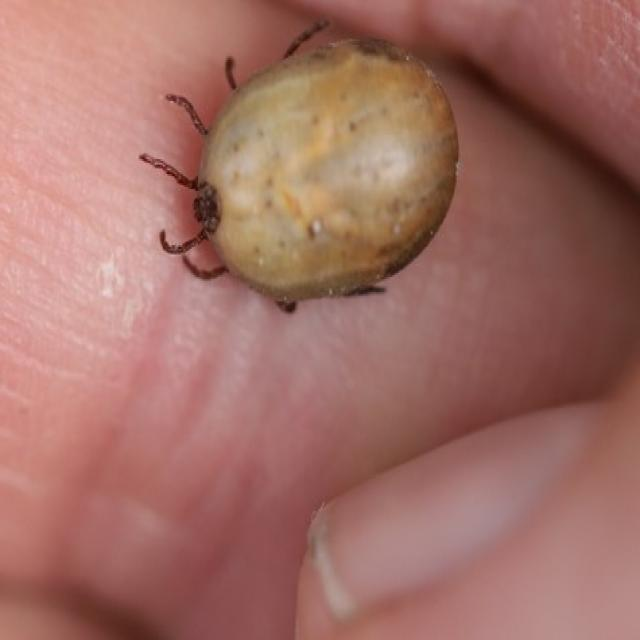Dermacentor Reticulatus-F-Fed: (139, 19, 458, 314)
